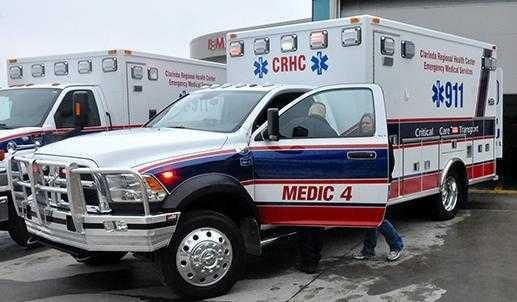car: (2, 14, 504, 298)
